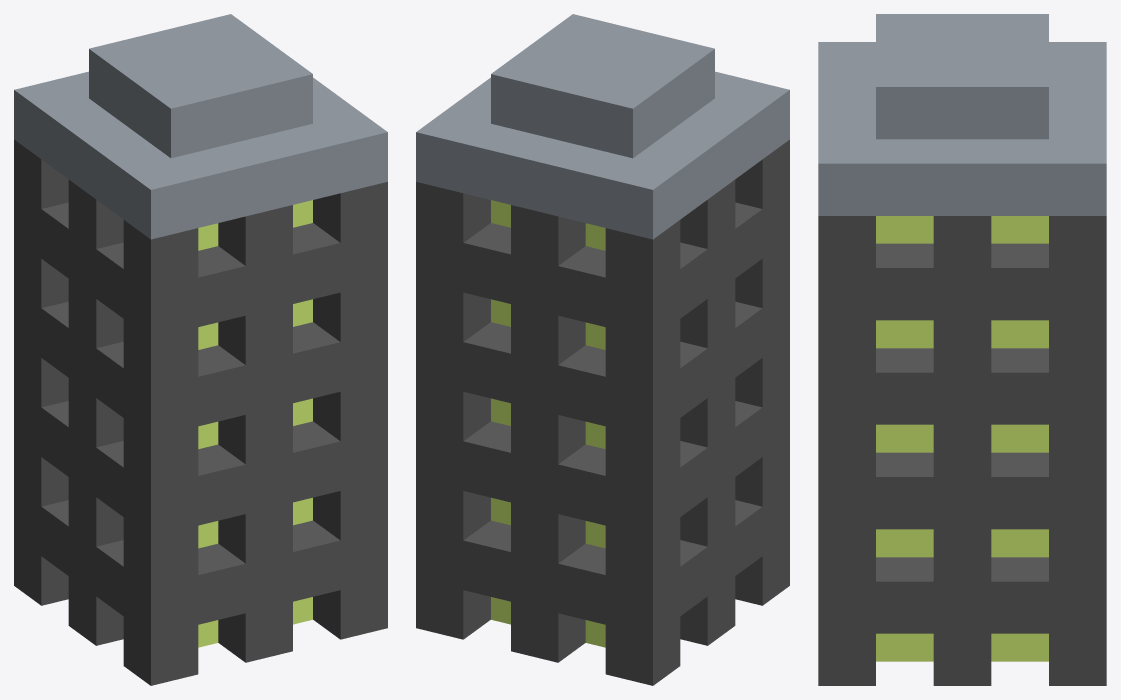
File: building.obj
3 views of the same model, side by side, from view 1: azimuth 30°, elevation 25°; view 2: azimuth 150°, elevation 25°; view 3: azimuth 270°, elevation 25° (orthographic). The views are drawn at different scales.
Bounding box in the file's own units: 0.5 × 1.1 × 0.5.
1 material, 1 textured.
